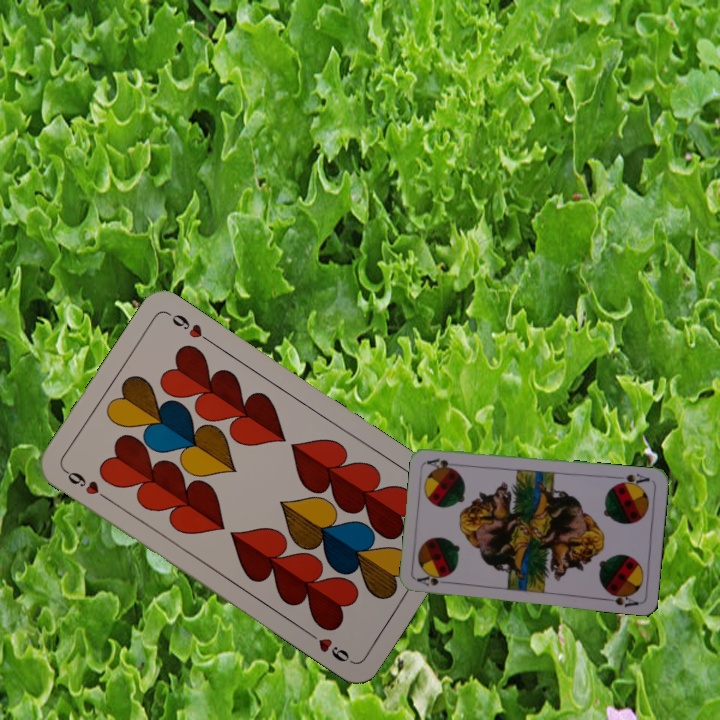H9: (60, 465, 112, 504)
SA: (612, 469, 652, 489), (413, 571, 454, 589)
